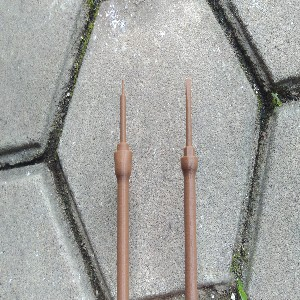obeng: (180, 78, 198, 300)
solder: (113, 77, 134, 300)
